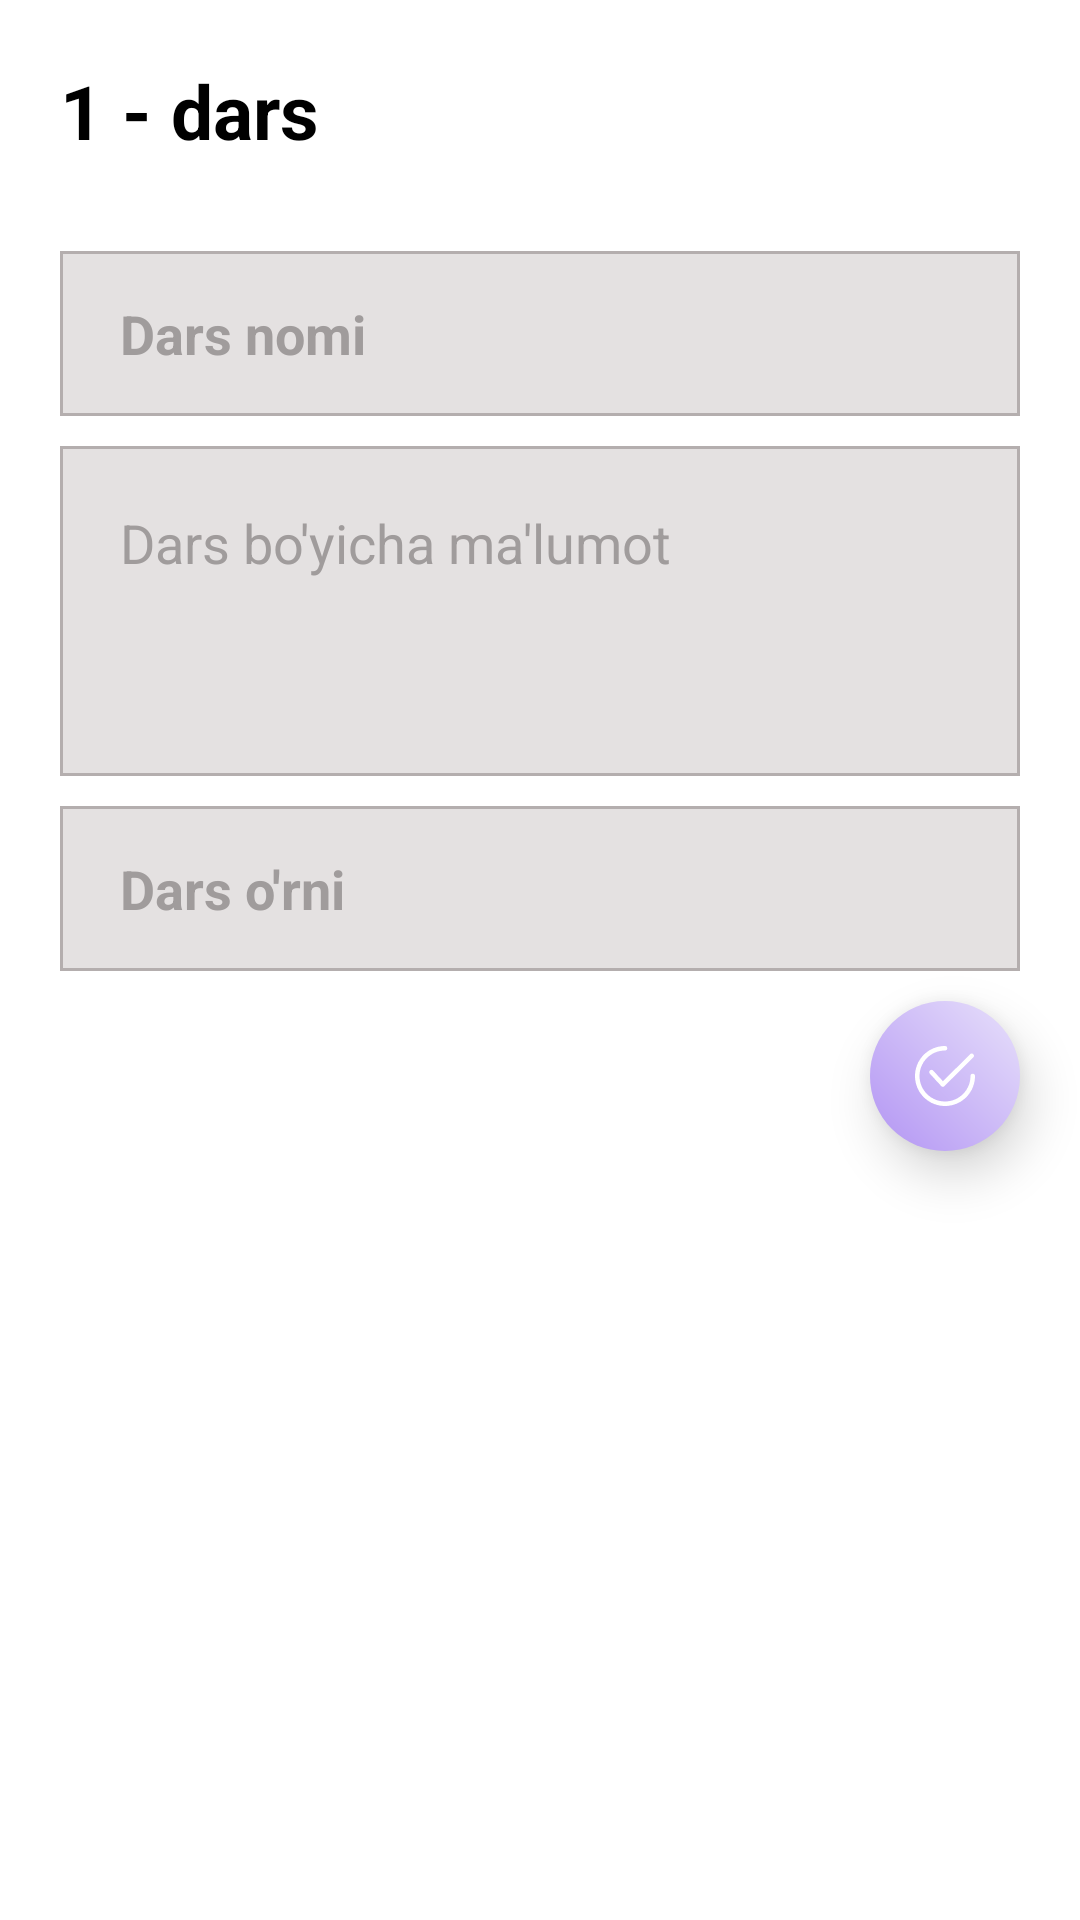

Icon bounding boxes for this 1080×1920 phone screenshot, format bbox=[x1, y1, x2, y2]:
checked: bbox=[870, 1001, 1020, 1151]
